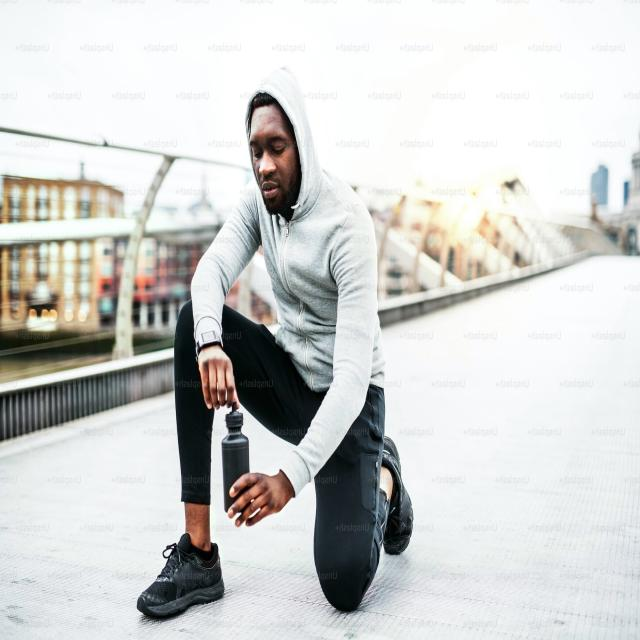adult: (135, 85, 415, 614)
